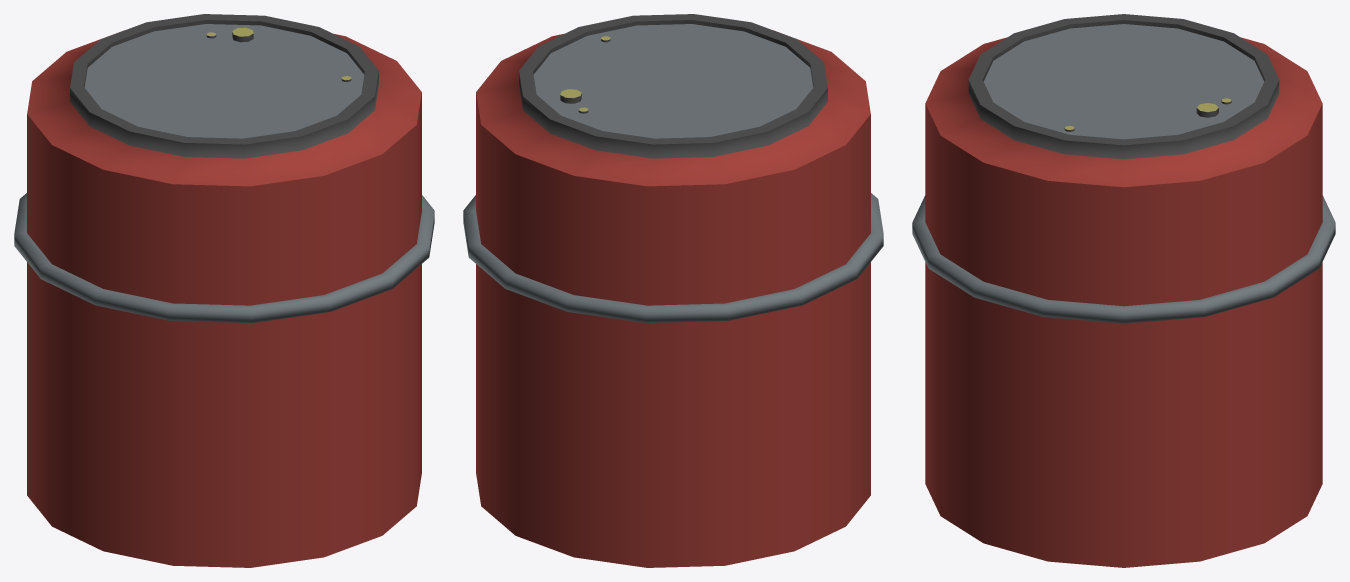
File: sc_prop_canister.FBX
3 renders of one model, left to right at view 1: azimuth 30°, elevation 25°; view 2: azimuth 150°, elevation 25°; view 3: azimuth 270°, elevation 25°, orthographic.
Parts seen in each view (by area): view 1: canister; view 2: canister; view 3: canister.
Boxes of the visible parts, x1=… form: canister: x1=14, y1=14, x2=434, y2=567; canister: x1=463, y1=14, x2=883, y2=567; canister: x1=912, y1=14, x2=1335, y2=567.
Size of the model in its own units: 0.6233 by 0.6599 by 0.6233.
